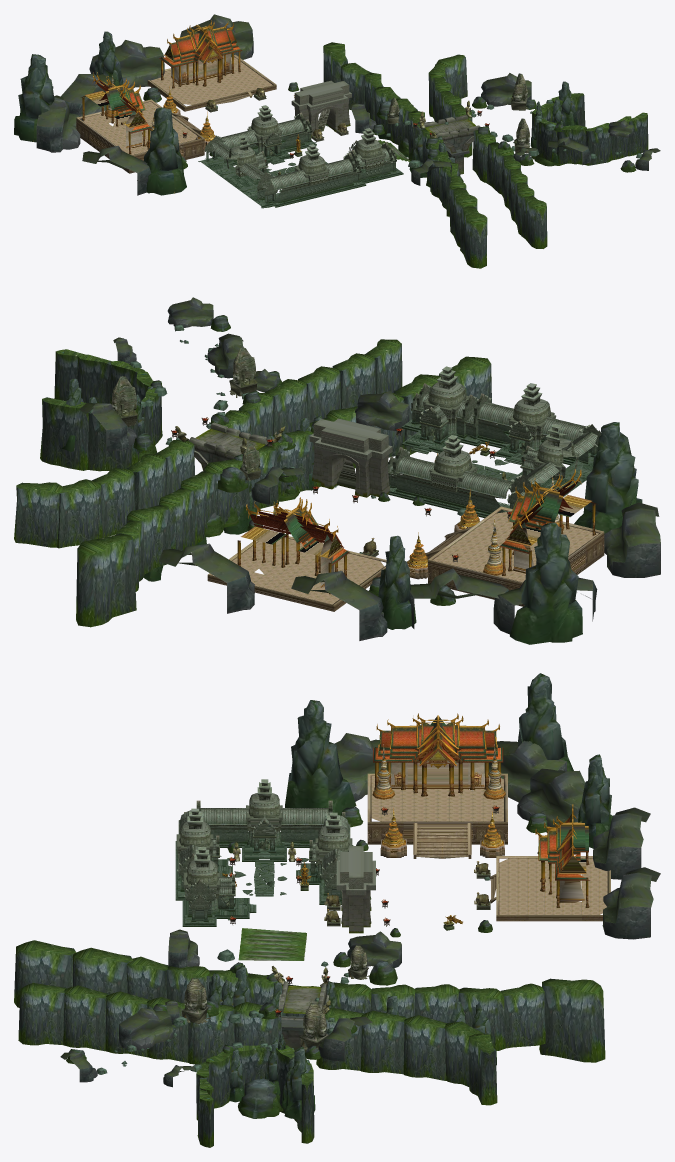
File: wuxia-east-asia-hall.glb
3 views of the same model, one above another, from view 1: azimuth 30°, elevation 25°; view 2: azimuth 150°, elevation 25°; view 3: azimuth 270°, elevation 25° (orthographic). The views are drawn at different scales.
Visible parts, largest first — view 1: Item_Palace001, Item_Door_a; view 2: Item_Palace001, Item_Door_a; view 3: Item_Palace001, Item_Door_a.
Part boxes in pixels (bbox=[...]): Item_Palace001: bbox=[14, 14, 660, 268]; Item_Door_a: bbox=[291, 80, 480, 174]; Item_Palace001: bbox=[14, 297, 660, 644]; Item_Door_a: bbox=[189, 418, 489, 515]; Item_Palace001: bbox=[14, 673, 660, 1147]; Item_Door_a: bbox=[222, 846, 462, 1052].
Bounding box in the file's own units: 121 × 31.74 × 101.
3 materials, 3 textured.
